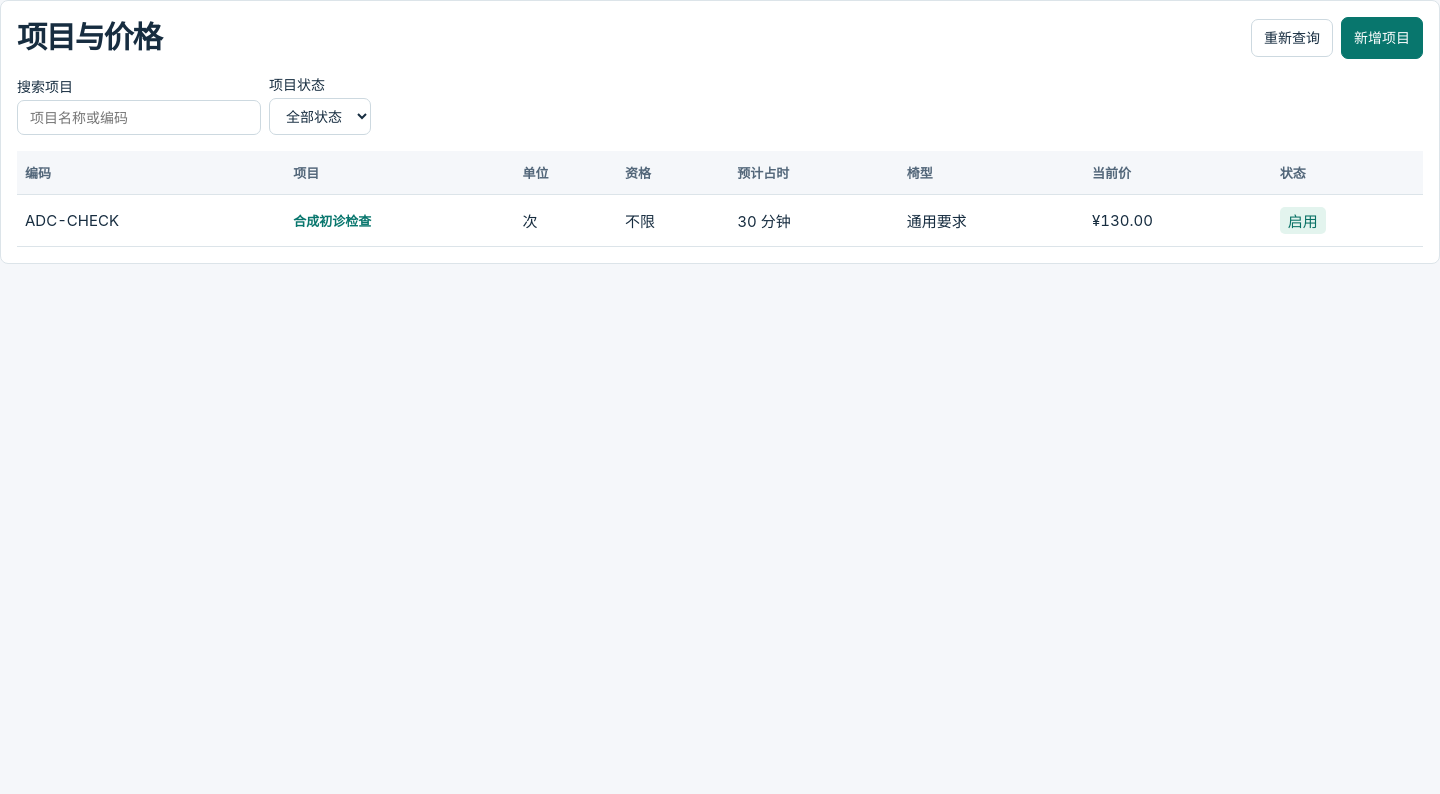
standard catalog shows the exact current price and the history of a selected project
The width and height of the screenshot is (1440, 794).
Expected: the text "¥130.00" is shown, x1=1084 y1=194 x2=1272 y2=246
Click the button "合成初诊检查": x=332, y=220 x1=293 y1=211 x2=371 y2=230
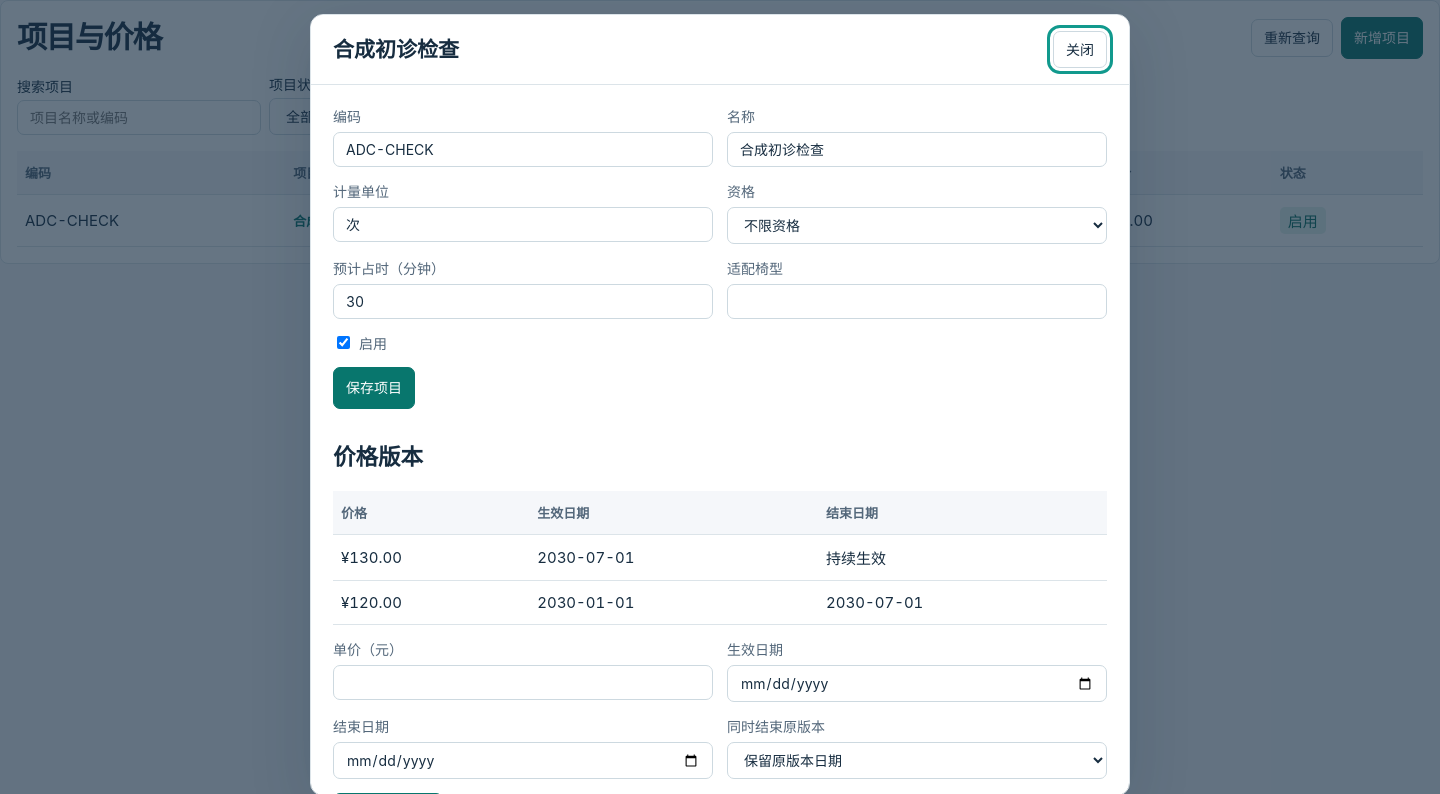
Now the text "¥120.00" is shown, box x1=333 y1=581 x2=529 y2=625
Now the heading "价格版本" is shown, box x1=333 y1=443 x2=423 y2=470
